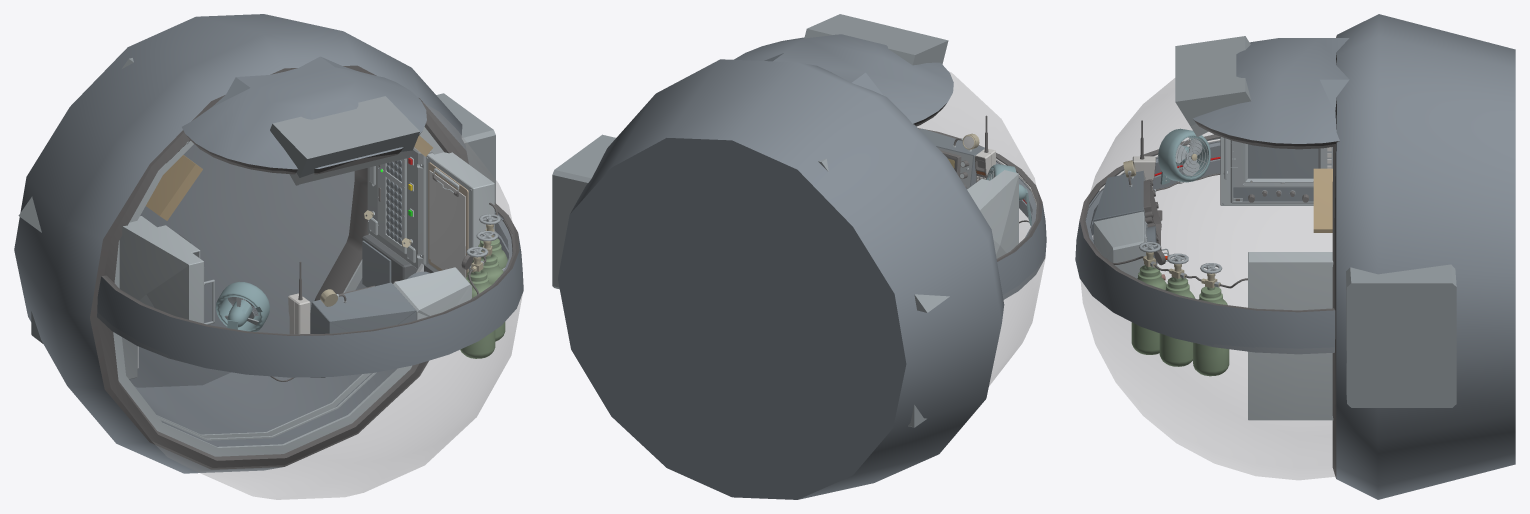
File: Cockpit_V3.fbx
3 views of the same model, side by side, from view 1: azimuth 30°, elevation 25°; view 2: azimuth 150°, elevation 25°; view 3: azimuth 270°, elevation 25° (orthographic). The views are drawn at different scales.
Parts seen in each view (by area): view 1: Glass, FuselageB, Fuselage, FuselageF, FuselageT, Map_Monitor, PanelR_Box, PanelL_Box, Monitor_Box, Clipboard_Paper, Clipboard_Box, Radar_Box (+10 smaller); view 2: FuselageB, Glass, FuselageT, PanelL_Box, FuselageF, Map_Monitor, PanelR_Box, Monitor_Box; view 3: Glass, FuselageB, PanelL_Box, FuselageF, FuselageT, Clipboard_Box, PanelR_Monitor, Map_Monitor, Oxygen_Tanks, Radar_Box, Monitor_Box, Fan_Shell (+7 smaller).
Part boxes in pixels (box(x1,y1,x2,y2)): Glass: box(97, 102, 522, 499); FuselageB: box(14, 14, 468, 473); Fuselage: box(90, 65, 468, 469); FuselageF: box(97, 203, 523, 377); FuselageT: box(182, 56, 426, 174); Map_Monitor: box(270, 96, 420, 185); PanelR_Box: box(119, 216, 203, 323); PanelL_Box: box(367, 93, 495, 268); Monitor_Box: box(310, 282, 416, 333); Clipboard_Paper: box(429, 170, 466, 277); Clipboard_Box: box(426, 152, 494, 271); Radar_Box: box(393, 267, 471, 319); FuselageB: box(558, 59, 1004, 499); Glass: box(916, 71, 1045, 385); FuselageT: box(734, 34, 953, 126); PanelL_Box: box(552, 134, 615, 289); FuselageF: box(918, 128, 1046, 299); Map_Monitor: box(804, 14, 948, 65); PanelR_Box: box(967, 170, 1018, 258); Monitor_Box: box(919, 128, 984, 188); Glass: box(1081, 78, 1335, 479); FuselageB: box(1336, 14, 1515, 499); PanelL_Box: box(1346, 264, 1456, 407); FuselageF: box(1075, 134, 1335, 354); FuselageT: box(1193, 38, 1349, 149); Clipboard_Box: box(1248, 252, 1333, 420); PanelR_Monitor: box(1230, 140, 1332, 203); Map_Monitor: box(1175, 36, 1251, 136); Oxygen_Tanks: box(1131, 265, 1229, 376); Radar_Box: box(1093, 211, 1146, 278); Monitor_Box: box(1093, 170, 1147, 243); Fan_Shell: box(1158, 128, 1210, 184).
Bounding box in the file's own units: 2.31 × 2.24 × 2.03.
